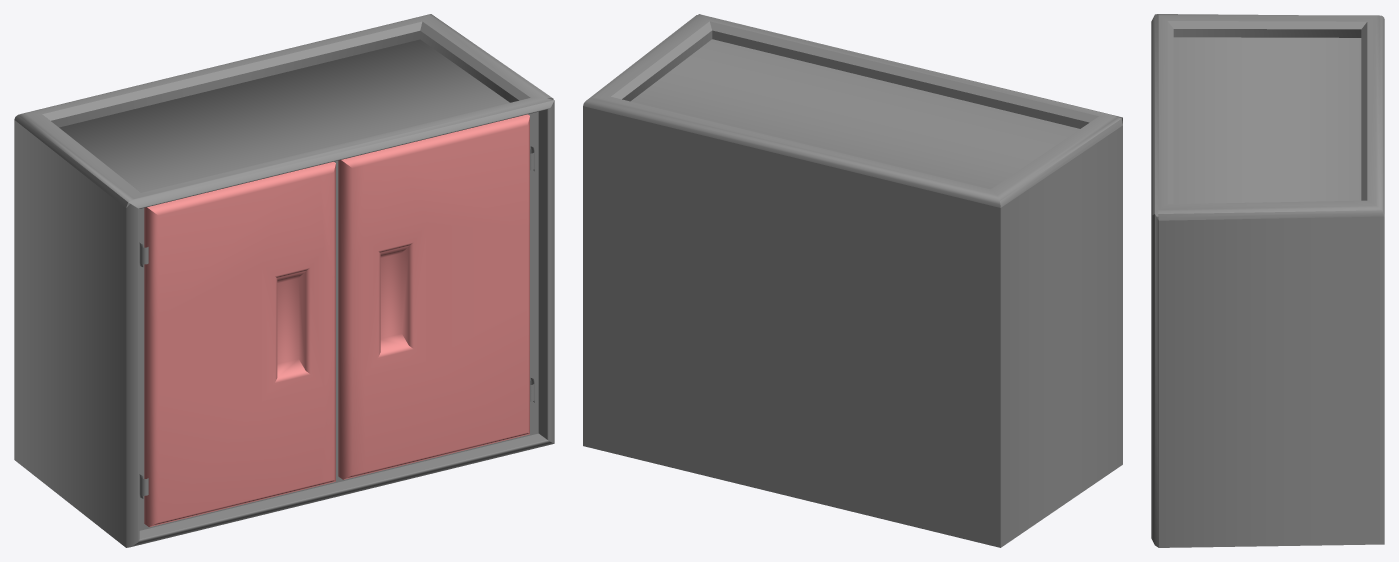
The model's file is Container 1.fbx.
The picture shows the model from 3 angles, left to right: view 1: azimuth 30°, elevation 25°; view 2: azimuth 150°, elevation 25°; view 3: azimuth 270°, elevation 25°; orthographic projection. The views are drawn at different scales.
Visible parts, largest first — view 1: SM_Container2; view 2: SM_Container2; view 3: SM_Container2.
Boxes of the visible parts, <box> form: SM_Container2: <box>14,14,554,547</box>; SM_Container2: <box>583,14,1122,547</box>; SM_Container2: <box>1151,14,1384,547</box>.
Size of the model in its own units: 119 by 92.19 by 58.02.
